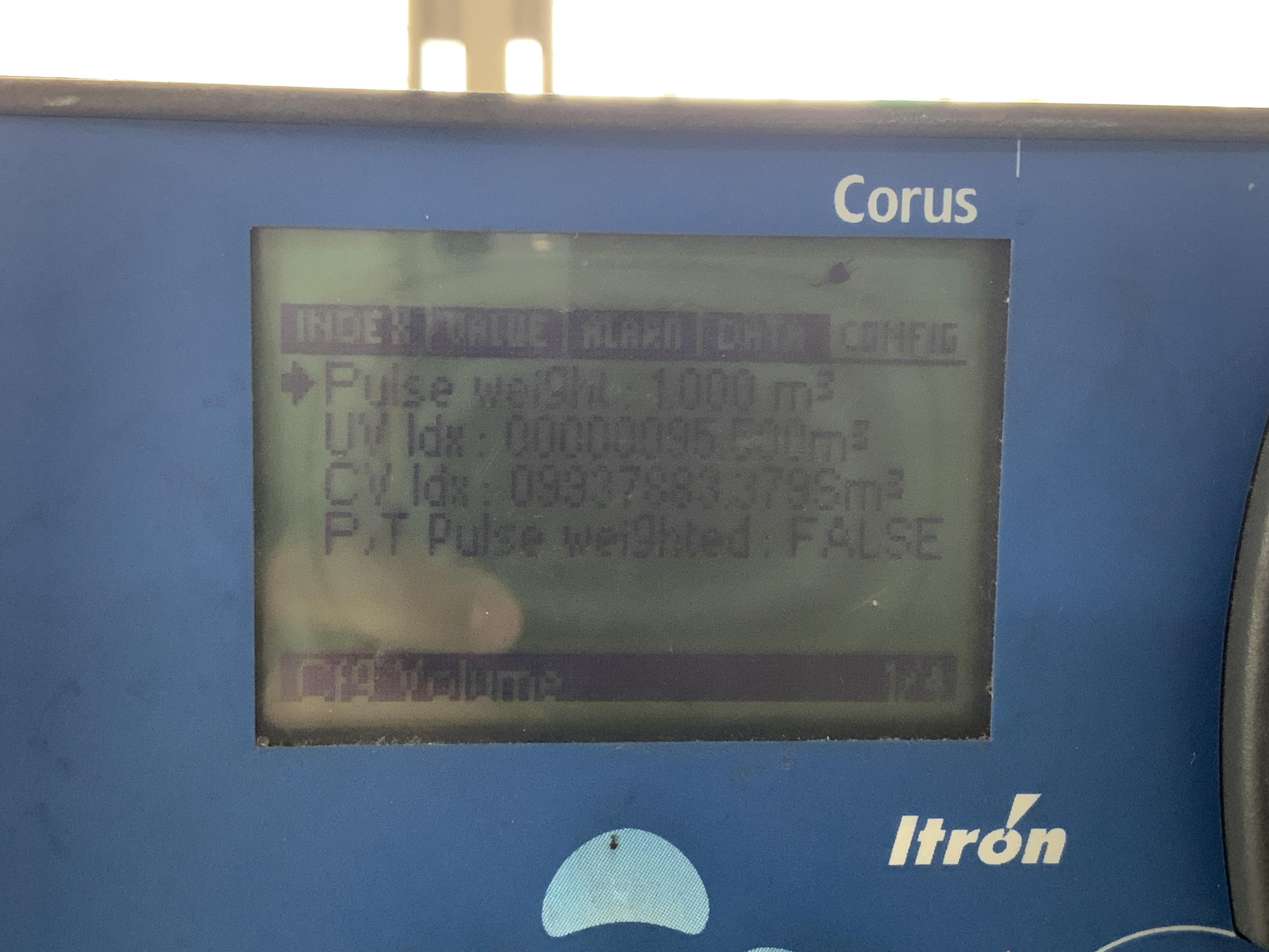digital_screen: (253, 226, 1013, 745)
